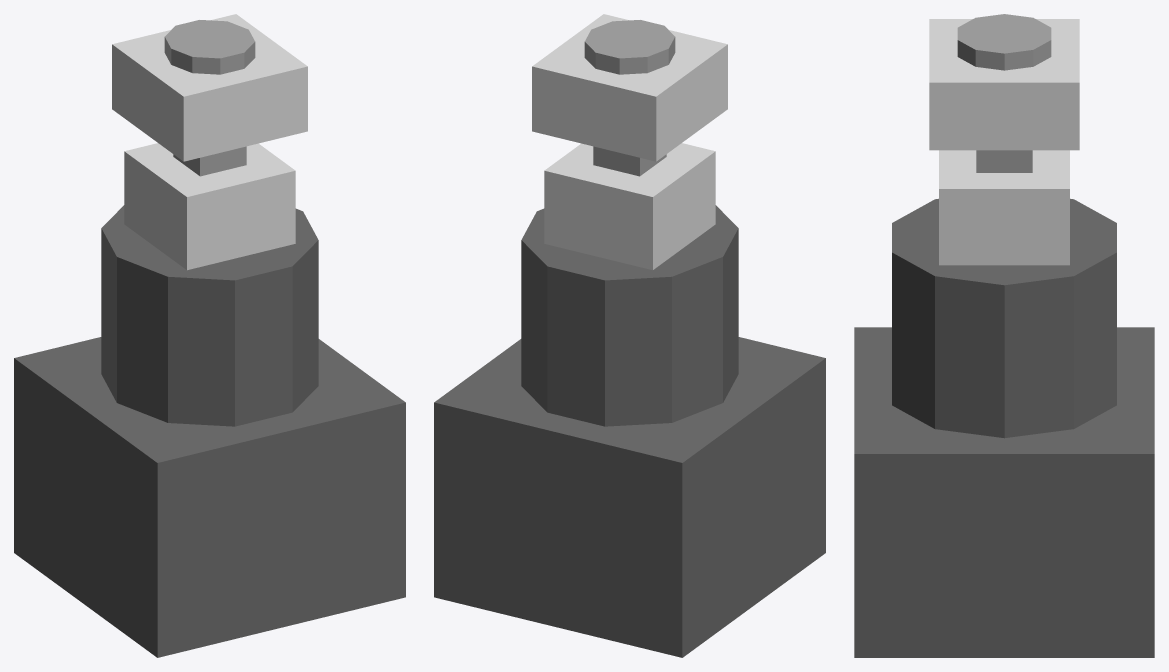
File: machine2.fbx
3 renders of one model, left to right at view 1: azimuth 30°, elevation 25°; view 2: azimuth 150°, elevation 25°; view 3: azimuth 270°, elevation 25°, orthographic. The views are drawn at different scales.
Parts seen in each view (by area): view 1: p4, p5, peice2, peice, p6, p3; view 2: p4, p5, peice2, peice, p6, p3; view 3: p4, p5, peice2, peice, p6, p3.
Part boxes in pixels (box(x1,y1,x2,y2)): p4: box(14, 337, 405, 657); p5: box(101, 205, 318, 426); peice2: box(112, 14, 307, 161); peice: box(124, 143, 295, 270); p6: box(164, 20, 255, 74); p3: box(173, 146, 246, 176); p4: box(434, 337, 825, 657); p5: box(521, 205, 738, 426); peice2: box(532, 14, 727, 161); peice: box(544, 143, 715, 270); p6: box(584, 20, 675, 74); p3: box(593, 146, 666, 176); p4: box(854, 327, 1154, 657); p5: box(892, 198, 1116, 438); peice2: box(929, 19, 1079, 150); peice: box(939, 150, 1069, 265); p6: box(957, 14, 1051, 70); p3: box(976, 150, 1032, 172).
Size of the model in its own units: 100 by 206 by 100.
6 materials, 6 textured.
